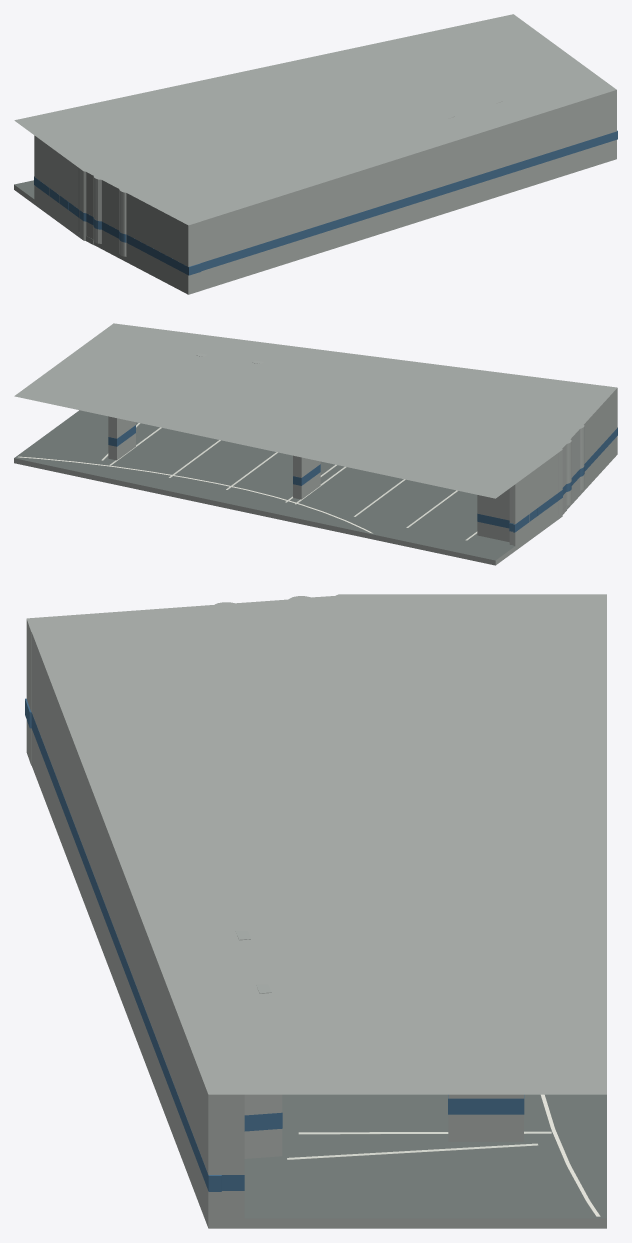
Rendered from B02-south-parking.glb.
The picture shows the model from 3 angles, top to bottom: view 1: azimuth 30°, elevation 25°; view 2: azimuth 150°, elevation 25°; view 3: azimuth 270°, elevation 25°; orthographic projection. The views are drawn at different scales.
Visible parts, largest first — view 1: ASSUMED | ceiling2.70 above floor, SOURCE WALL 97, SOURCE WALL 89, PROPOSED | identity band.011, SCENE CUT | slab edge.003, PROPOSED | identity band.009, SOURCE WALL 718, SOURCE WALL 660, SOURCE WALL 662, SOURCE WALL 659, SOURCE WALL 656, SOURCE WALL 658 (+2 smaller); view 2: ASSUMED | ceiling2.70 above floor, SOURCE GRADES | interpolated floor, SOURCE WALL 89, SCENE CUT | slab edge.001, SOURCE WALL 97, SOURCE WALL 108, SOURCE WALL 19, SOURCE WALL 18, PROPOSED | identity band.009, PROPOSED TRAFFIC | source-two-way-aisle | edge, SOURCE WALL 657, SOURCE WALL 658 (+5 smaller); view 3: ASSUMED | ceiling2.70 above floor, SOURCE GRADES | interpolated floor, SOURCE WALL 97, SCENE CUT | slab edge.002, SOURCE WALL 89, PROPOSED | identity band.011, SOURCE WALL 18, SCENE CUT | slab edge.003, SOURCE WALL 76, SOURCE WALL 718, SOURCE WALL 286, SOURCE WALL 96 (+1 smaller).
Boxes of the visible parts, box(x1,y1,x2,y2) form: ASSUMED | ceiling2.70 above floor: box(14, 14, 616, 222); SOURCE WALL 97: box(192, 87, 616, 285); SOURCE WALL 89: box(34, 135, 200, 289); PROPOSED | identity band.011: box(201, 130, 617, 270); SCENE CUT | slab edge.003: box(200, 154, 616, 290); PROPOSED | identity band.009: box(34, 176, 201, 275); SOURCE WALL 718: box(386, 99, 552, 152); SOURCE WALL 660: box(93, 173, 109, 243); SOURCE WALL 662: box(119, 186, 134, 256); SOURCE WALL 659: box(79, 166, 94, 235); SOURCE WALL 656: box(49, 146, 57, 215); SOURCE WALL 658: box(69, 159, 82, 229); ASSUMED | ceiling2.70 above floor: box(14, 323, 613, 498); SOURCE GRADES | interpolated floor: box(14, 410, 565, 560); SOURCE WALL 89: box(513, 385, 617, 545); SCENE CUT | slab edge.001: box(14, 458, 495, 565); SOURCE WALL 97: box(111, 323, 602, 391); SOURCE WALL 108: box(477, 470, 516, 542); SOURCE WALL 19: box(293, 422, 320, 499); SOURCE WALL 18: box(108, 384, 135, 460); PROPOSED | identity band.009: box(513, 427, 617, 532); PROPOSED TRAFFIC | source-two-way-aisle | edge: box(18, 456, 372, 533); SOURCE WALL 657: box(537, 461, 546, 528); SOURCE WALL 658: box(542, 454, 555, 521); ASSUMED | ceiling2.70 above floor: box(34, 594, 606, 1094); SOURCE GRADES | interpolated floor: box(244, 1094, 606, 1218); SOURCE WALL 97: box(31, 630, 228, 1218); SCENE CUT | slab edge.002: box(208, 1218, 606, 1228); SOURCE WALL 89: box(26, 594, 528, 755); PROPOSED | identity band.011: box(31, 712, 221, 1191); SOURCE WALL 18: box(448, 1009, 523, 1141); SCENE CUT | slab edge.003: box(31, 756, 208, 1227); SOURCE WALL 76: box(216, 1029, 282, 1158); SOURCE WALL 718: box(155, 851, 228, 1032); SOURCE WALL 286: box(221, 1075, 235, 1218); SOURCE WALL 96: box(72, 596, 527, 631).
Bounding box in the file's own units: 22.05 × 3.58 × 11.51.
